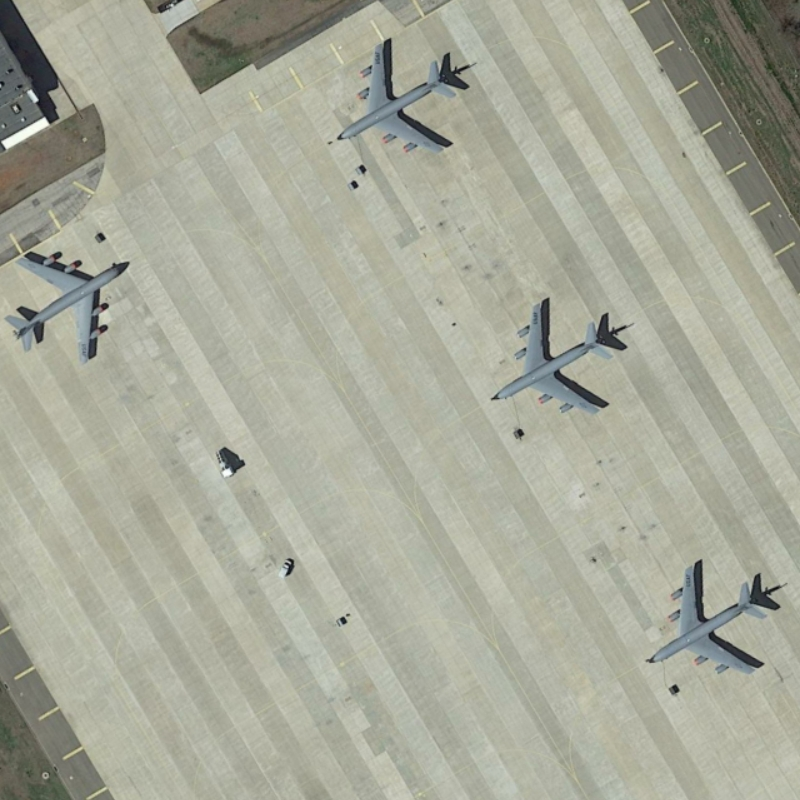A14: (485, 285, 634, 421), (642, 543, 784, 685), (331, 36, 476, 161), (2, 245, 137, 366)
